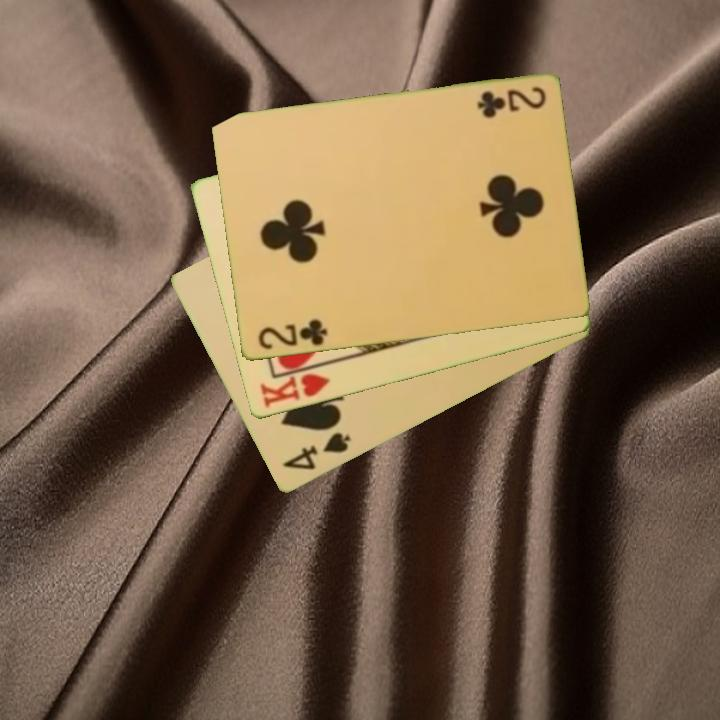2c: (254, 316, 330, 353), (473, 83, 549, 119)
4s: (278, 429, 353, 474)
Kh: (256, 360, 335, 412)
